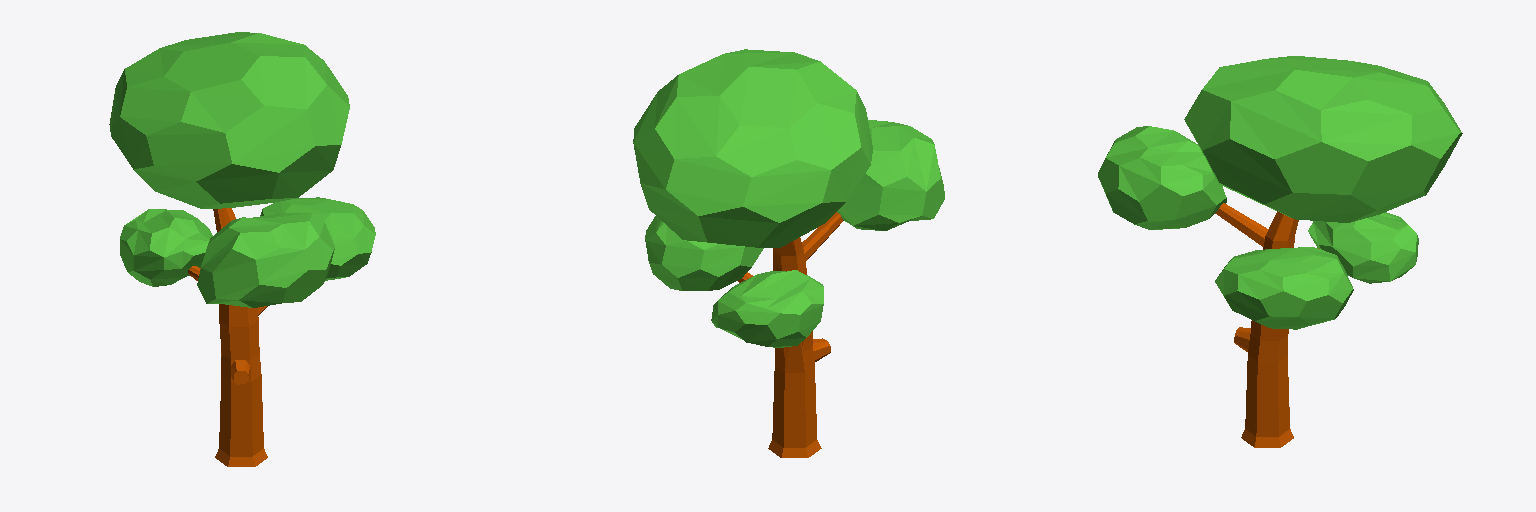
The model's file is tree-v6.obj.
The picture shows the model from 3 angles: view 1: azimuth 30°, elevation 25°; view 2: azimuth 150°, elevation 25°; view 3: azimuth 270°, elevation 25°; orthographic projection.
Parts seen in each view (by area): view 1: group1 Platonic, group1 Platonic_1, group1 Cylinder, Platonic_3 group1, group1 Platonic_2; view 2: group1 Platonic, group1 Platonic_1, group1 Cylinder, Platonic_3 group1, group1 Platonic_2; view 3: group1 Platonic, group1 Platonic_1, group1 Platonic_2, group1 Cylinder, Platonic_3 group1.
Boxes of the visible parts, x1=… form: group1 Platonic: x1=109, y1=32, x2=349, y2=208; group1 Platonic_1: x1=197, y1=213, x2=334, y2=307; group1 Cylinder: x1=188, y1=208, x2=267, y2=466; Platonic_3 group1: x1=120, y1=209, x2=212, y2=286; group1 Platonic_2: x1=260, y1=197, x2=375, y2=280; group1 Platonic: x1=633, y1=49, x2=872, y2=247; group1 Platonic_1: x1=837, y1=120, x2=944, y2=230; group1 Cylinder: x1=738, y1=212, x2=843, y2=457; Platonic_3 group1: x1=711, y1=270, x2=823, y2=347; group1 Platonic_2: x1=645, y1=216, x2=763, y2=290; group1 Platonic: x1=1184, y1=56, x2=1462, y2=222; group1 Platonic_1: x1=1098, y1=126, x2=1226, y2=229; group1 Platonic_2: x1=1215, y1=247, x2=1353, y2=329; group1 Cylinder: x1=1215, y1=203, x2=1318, y2=447; Platonic_3 group1: x1=1308, y1=212, x2=1418, y2=283.
Bounding box in the file's own units: 8.08 × 13.63 × 11.75.